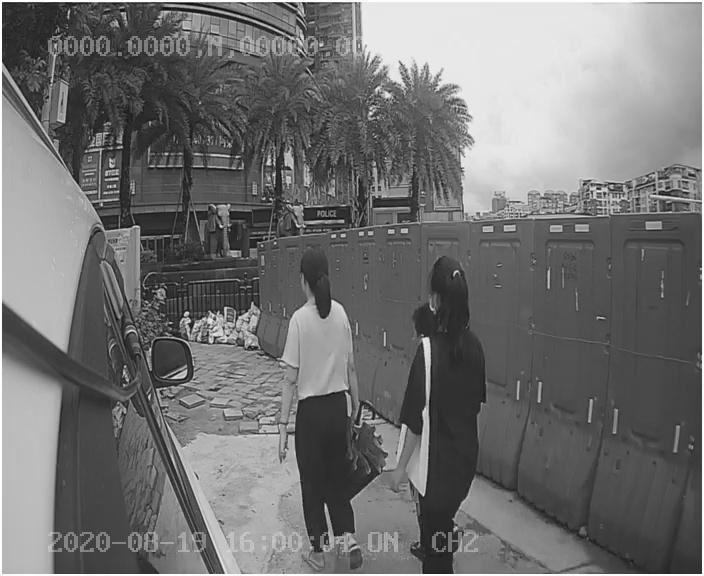person: (259, 241, 387, 530), (388, 250, 506, 527)
